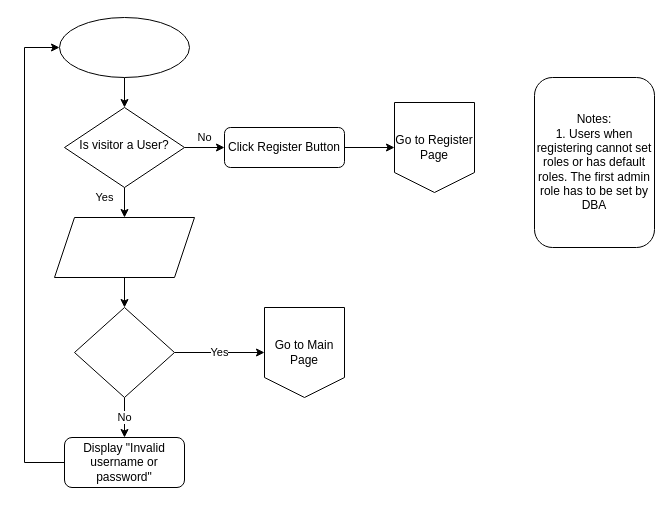
Image size: 672x505. Some labels were removed from this diagram. The centre of each missing label's shape, as x and y in pixels:
"Are Login Credentials valid?" belongs at pixel 124 352.
"Enter Username Enter Password Click Login Button" belongs at pixel 124 247.
"https://localhost:8080 (Login Page)" belongs at pixel 124 47.
